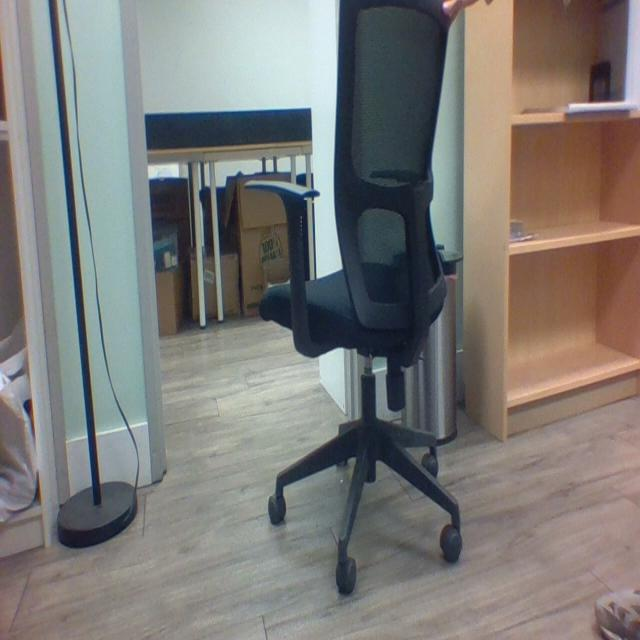black-chair: (250, 1, 470, 590)
